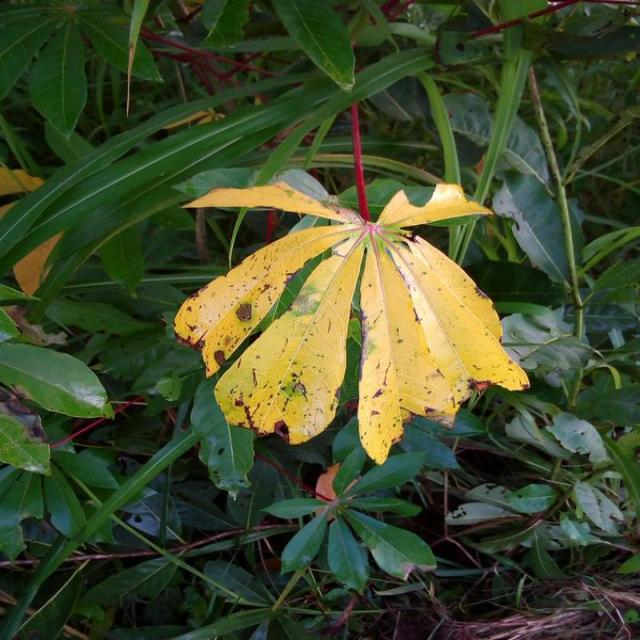cassava leaf: (172, 165, 530, 464)
